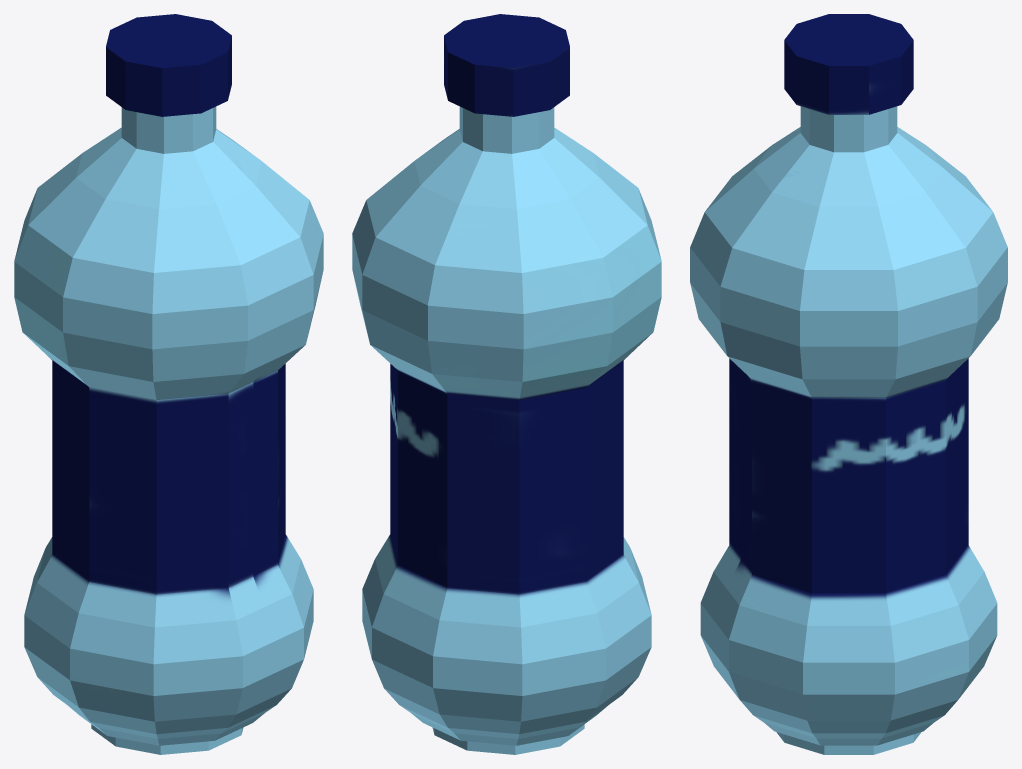
File: Water Bottle.glb
The picture shows the model from 3 angles, left to right: view 1: azimuth 30°, elevation 25°; view 2: azimuth 150°, elevation 25°; view 3: azimuth 270°, elevation 25°; orthographic projection.
Visible parts, largest first — view 1: Cylinder; view 2: Cylinder; view 3: Cylinder.
Part boxes in pixels (left/top/right/bottom): Cylinder: left=14, top=14, right=323, bottom=754; Cylinder: left=352, top=14, right=661, bottom=754; Cylinder: left=690, top=14, right=1007, bottom=754.
Size of the model in its own units: 3.79 by 9.45 by 3.98.
1 material, 1 textured.
